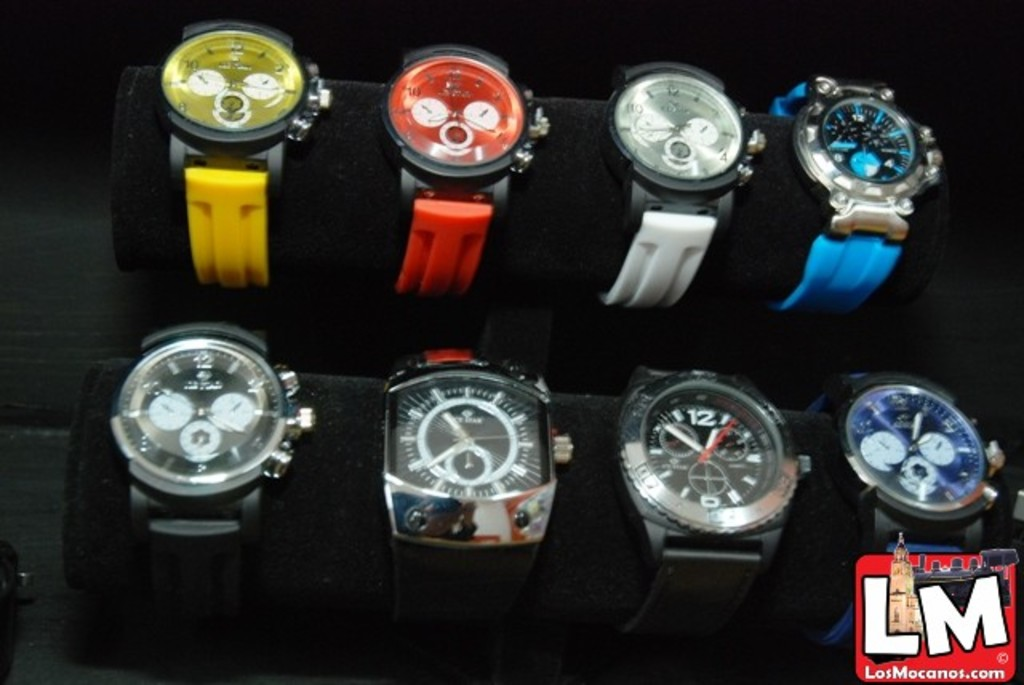watch: (103, 318, 323, 569), (150, 14, 332, 289), (380, 40, 556, 307), (609, 363, 812, 588), (596, 57, 766, 315), (368, 340, 553, 566), (779, 73, 940, 324)
